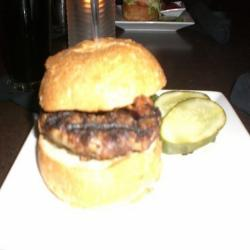burger: (31, 35, 173, 211)
